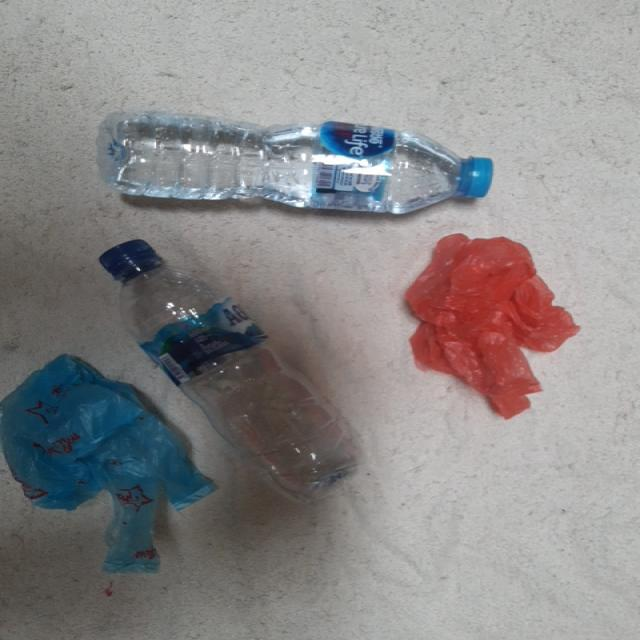Single-layer Plastic: (0, 355, 214, 574), (405, 234, 579, 418)
